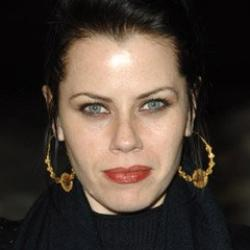face: (19, 2, 221, 216)
